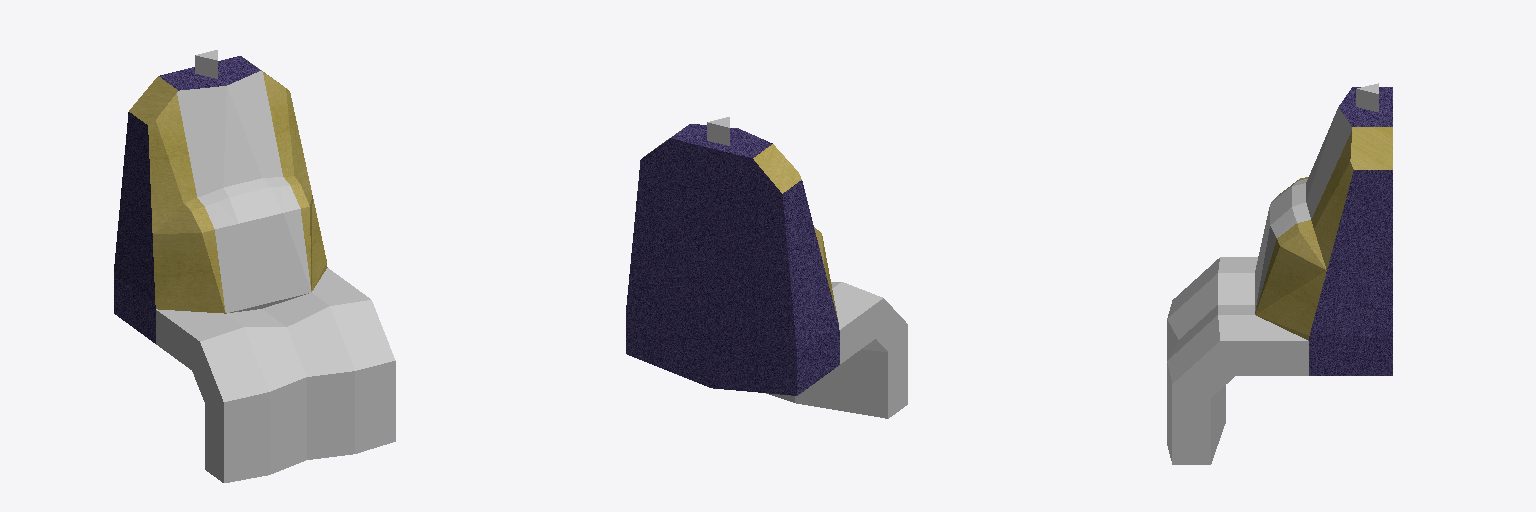
3 renders of one model, left to right at view 1: azimuth 30°, elevation 25°; view 2: azimuth 150°, elevation 25°; view 3: azimuth 270°, elevation 25°, orthographic.
Parts seen in each view (by area): view 1: SketchUp.005, SketchUp.001, SketchUp.004, SketchUp.002, SketchUp.003, SketchUp; view 2: SketchUp.002, SketchUp.005, SketchUp.004, SketchUp; view 3: SketchUp.005, SketchUp.002, SketchUp.003, SketchUp.001, SketchUp.
Boxes of the visible parts, x1,y1,x2,y2 form: SketchUp.005: [156, 268, 395, 482]; SketchUp.001: [177, 71, 311, 313]; SketchUp.004: [129, 76, 225, 313]; SketchUp.002: [114, 56, 260, 343]; SketchUp.003: [247, 60, 327, 291]; SketchUp: [195, 50, 217, 78]; SketchUp.002: [626, 124, 839, 395]; SketchUp.005: [766, 282, 907, 418]; SketchUp.004: [753, 144, 838, 322]; SketchUp: [707, 117, 729, 145]; SketchUp.005: [1167, 257, 1308, 464]; SketchUp.002: [1309, 87, 1392, 375]; SketchUp.003: [1255, 127, 1392, 340]; SketchUp.001: [1255, 107, 1351, 311]; SketchUp: [1356, 83, 1378, 112].
Size of the model in its own units: 2.54 by 4.73 by 2.89.
Materials: 5 (2 with a texture image).